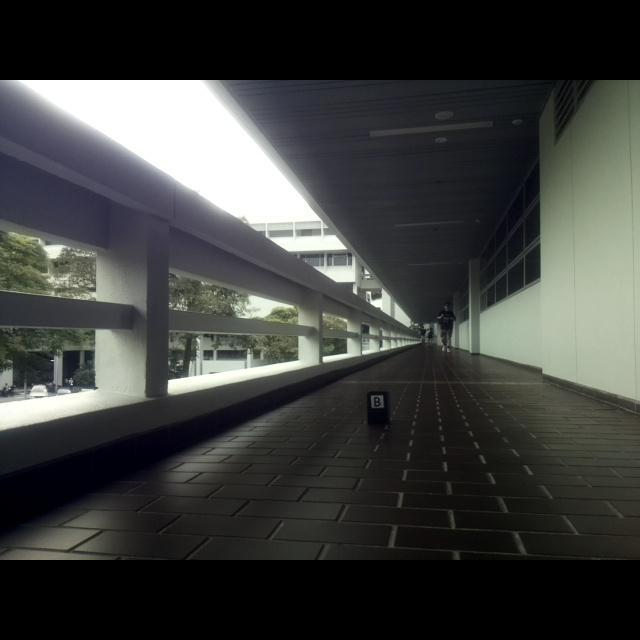B: (374, 397, 382, 408)
